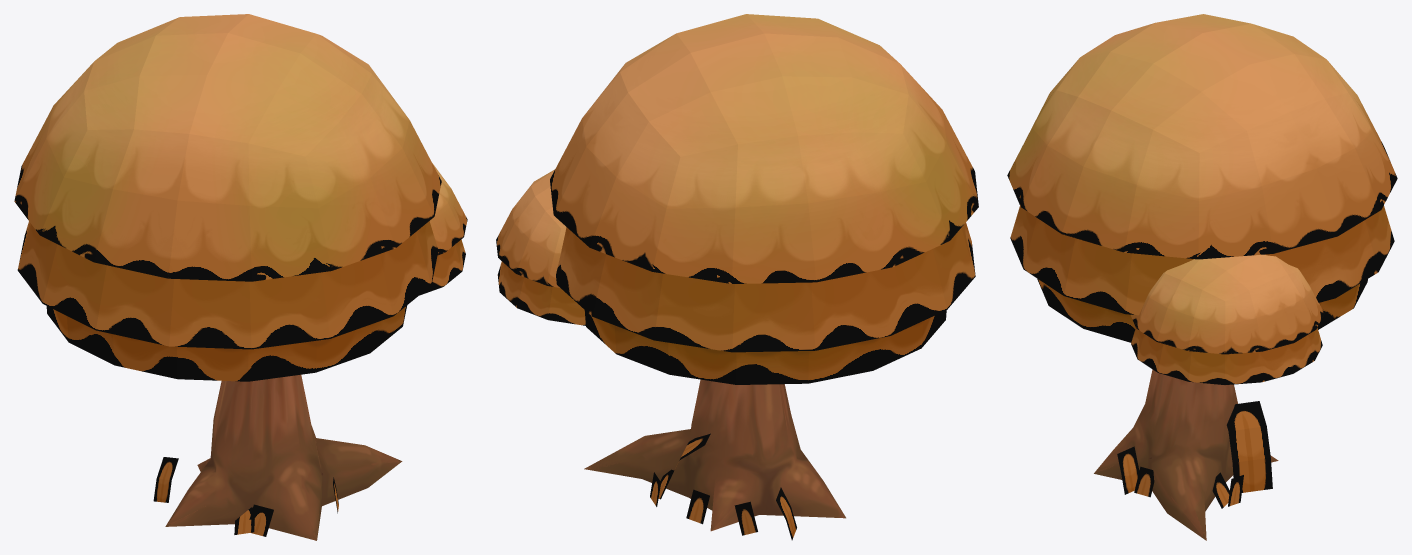
Rendered from tree_autumn_1.gltf.
3 renders of one model, left to right at view 1: azimuth 30°, elevation 25°; view 2: azimuth 150°, elevation 25°; view 3: azimuth 270°, elevation 25°, orthographic. The views are drawn at different scales.
Parts seen in each view (by area): view 1: Tree1; view 2: Tree1; view 3: Tree1.
Part boxes in pixels (left/top/right/bottom): Tree1: left=14, top=14, right=467, bottom=540; Tree1: left=496, top=14, right=978, bottom=540; Tree1: left=1007, top=14, right=1397, bottom=540.
Size of what is drawn, in the model's own units: 2.89 by 3.08 by 2.53.
Materials: 2 (2 with a texture image).
